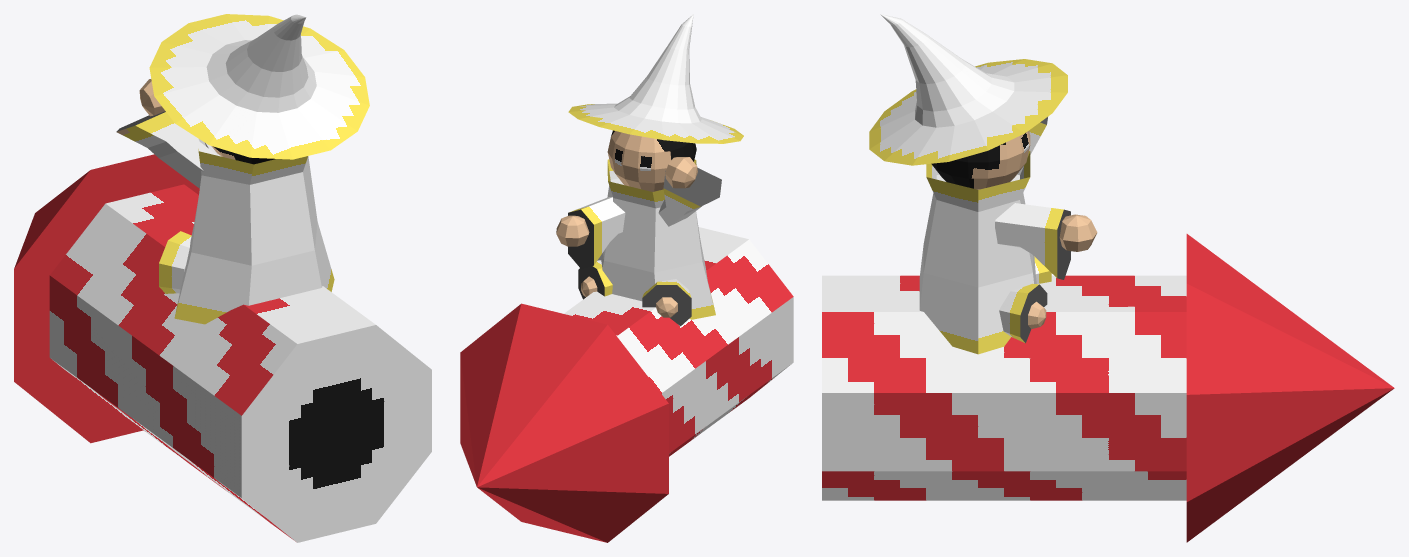
Rendered from rocket_rider.glb.
3 views of the same model, side by side, from view 1: azimuth 30°, elevation 25°; view 2: azimuth 150°, elevation 25°; view 3: azimuth 270°, elevation 25° (orthographic). The views are drawn at different scales.
Parts seen in each view (by area): view 1: rocket, hat, coat, arm-right, leg_right, hand-right; view 2: rocket, coat, hat, head, arm-left, arm-right, leg_right, hand-right, hand-left, leg_left; view 3: rocket, hat, coat, arm-left, head, leg_left, hand-left.
Boxes of the visible parts, <box> form: rocket: <box>14,154,431,542</box>; hat: <box>149,14,369,159</box>; coat: <box>174,143,334,324</box>; arm-right: <box>116,111,218,188</box>; leg_right: <box>159,231,191,293</box>; hand-right: <box>139,79,164,116</box>; rocket: <box>460,227,793,542</box>; coat: <box>597,159,715,319</box>; hat: <box>568,14,743,143</box>; head: <box>607,130,696,191</box>; arm-left: <box>568,197,625,268</box>; arm-right: <box>658,167,721,226</box>; leg_right: <box>642,279,691,326</box>; hand-right: <box>665,157,697,188</box>; hand-left: <box>556,215,589,246</box>; leg_left: <box>578,260,612,299</box>; rocket: <box>822,234,1394,542</box>; hat: <box>869,14,1067,165</box>; coat: <box>919,151,1036,354</box>; arm-left: <box>995,203,1070,279</box>; head: <box>931,131,1030,189</box>; leg_left: <box>999,283,1047,343</box>; hand-left: <box>1059,214,1097,251</box>.
Bounding box in the file's own units: 1.38 × 2.67 × 2.75.
2 materials, 2 textured.
